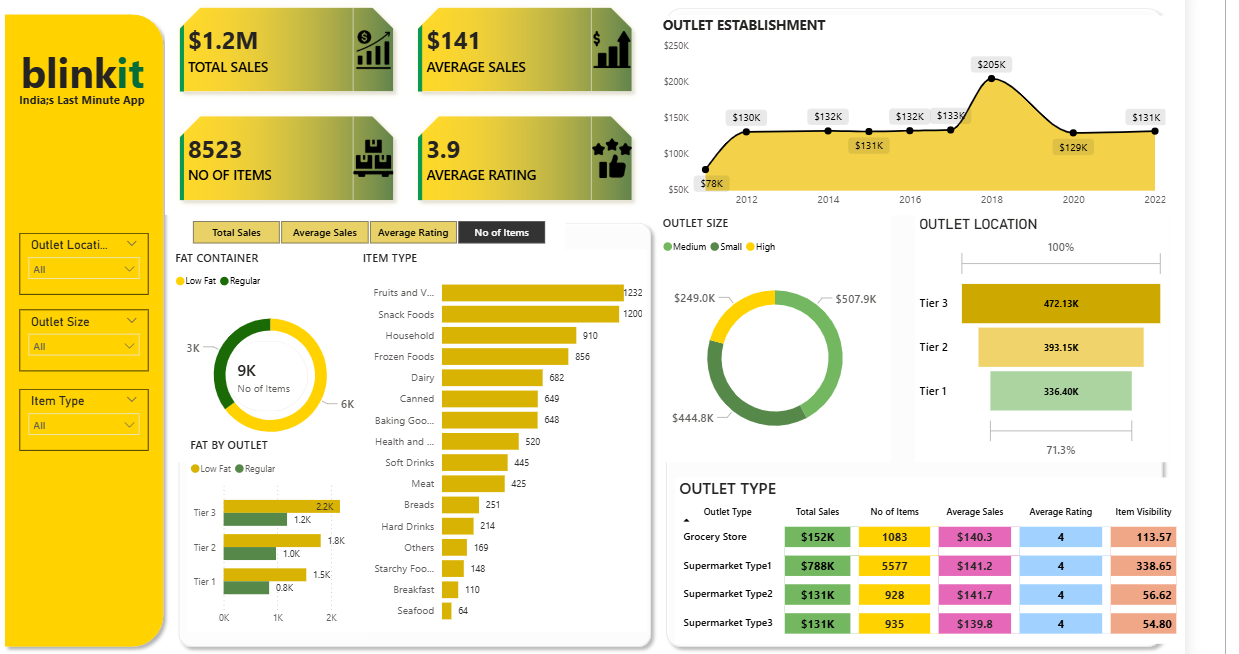

Layout of this report page (visuals, bound fields, positions):
{"tool":"powerbi","page":{"name":"Page 1","canvas":[1400,800],"ordinal":0},"visuals":[{"type":"shape","box":[0,23,205,763.5],"z":0},{"type":"textbox","box":[252.7,645.1,205,129],"z":1000},{"type":"textbox","box":[252.7,473.6,205,171.4],"z":2000},{"type":"textbox","box":[23,61.9,159.1,76],"z":3000},{"type":"textbox","box":[21.2,118.4,162.6,38.9],"z":4000},{"type":"cardVisual","fields":{"Data":["BlinkIT Grocery Data.Total Sales","BlinkIT Grocery Data.Average Sales","BlinkIT Grocery Data.No of Items","BlinkIT Grocery Data.Average Rating"]},"box":[197.9,7.1,567.3,261.6],"z":5000},{"type":"shape","box":[205,268.6,574.4,517.8],"z":6000},{"type":"donutChart","title":"FAT CONTAINER","fields":{"Y":["BlinkIT Grocery Data.Total Sales"],"Category":["BlinkIT Grocery Data.Item Fat Content"]},"box":[205,309.3,233.3,251],"z":7000},{"type":"slicer","fields":{"Values":["Parameter.Parameter"]},"box":[205,268.6,464.8,40.6],"z":8000},{"type":"cardVisual","fields":{"Data":["BlinkIT Grocery Data.Total Sales"]},"box":[265.1,411.8,106,93.7],"z":9000},{"type":"clusteredBarChart","title":"FAT BY OUTLET","fields":{"Y":["BlinkIT Grocery Data.Total Sales"],"Category":["BlinkIT Grocery Data.Outlet Location Type"],"Series":["BlinkIT Grocery Data.Item Fat Content"]},"box":[222.7,530.2,215.6,229.8],"z":10000},{"type":"barChart","title":"ITEM TYPE","fields":{"Y":["BlinkIT Grocery Data.Total Sales"],"Category":["BlinkIT Grocery Data.Item Type"]},"box":[425.9,309.3,339.3,450.7],"z":11000},{"type":"shape","box":[779.4,15.9,602.7,770.6],"z":12000},{"type":"lineChart","title":"OUTLET ESTABLISHMENT","fields":{"Y":["BlinkIT Grocery Data.Total Sales"],"Category":["BlinkIT Grocery Data.Outlet Establishment Year"]},"box":[779.4,33.6,602.7,235.1],"z":13000},{"type":"donutChart","title":"OUTLET SIZE","fields":{"Y":["BlinkIT Grocery Data.Total Sales"],"Category":["BlinkIT Grocery Data.Outlet Size"]},"box":[779.4,268.6,273.9,291.6],"z":14000},{"type":"funnel","title":"OUTLET LOCATION","fields":{"Y":["Sum(BlinkIT Grocery Data.Sales)"],"Category":["BlinkIT Grocery Data.Outlet Location Type"]},"box":[1081.6,268.6,298.7,291.6],"z":15000},{"type":"pivotTable","title":"OUTLET TYPE","fields":{"Rows":["BlinkIT Grocery Data.Outlet Type"],"Values":["BlinkIT Grocery Data.Total Sales","BlinkIT Grocery Data.No of Items","BlinkIT Grocery Data.Average Sales","BlinkIT Grocery Data.Average Rating","Sum(BlinkIT Grocery Data.Item Visibility)"]},"box":[798.8,577.9,600.9,196.2],"z":16000},{"type":"slicer","fields":{"Values":["BlinkIT Grocery Data.Outlet Location Type"]},"box":[26.5,289.8,152,72.5],"z":17000},{"type":"slicer","fields":{"Values":["BlinkIT Grocery Data.Outlet Size"]},"box":[26.5,380,152,72.5],"z":18000},{"type":"slicer","fields":{"Values":["BlinkIT Grocery Data.Item Type"]},"box":[26.5,473.6,152,72.5],"z":19000}]}

Visuals, with their boxes on the page's 1400x800 design canvas (x1, y1, x2, y2). These are canvas units, not pixel positions in the 1239x654 screenshot, which may show the page scaled, cropped or inside an application window:
shape: rect(0, 23, 205, 786)
textbox: rect(253, 645, 458, 774)
textbox: rect(253, 474, 458, 645)
textbox: rect(23, 62, 182, 138)
textbox: rect(21, 118, 184, 157)
cardVisual - BlinkIT Grocery Data.Total Sales x BlinkIT Grocery Data.Average Sales: rect(198, 7, 765, 269)
shape: rect(205, 269, 779, 786)
"FAT CONTAINER" donutChart: rect(205, 309, 438, 560)
slicer - Parameter.Parameter: rect(205, 269, 670, 309)
cardVisual - BlinkIT Grocery Data.Total Sales: rect(265, 412, 371, 506)
"FAT BY OUTLET" clusteredBarChart: rect(223, 530, 438, 760)
"ITEM TYPE" barChart: rect(426, 309, 765, 760)
shape: rect(779, 16, 1382, 786)
"OUTLET ESTABLISHMENT" lineChart: rect(779, 34, 1382, 269)
"OUTLET SIZE" donutChart: rect(779, 269, 1053, 560)
"OUTLET LOCATION" funnel: rect(1082, 269, 1380, 560)
"OUTLET TYPE" pivotTable: rect(799, 578, 1400, 774)
slicer - BlinkIT Grocery Data.Outlet Location Type: rect(26, 290, 178, 362)
slicer - BlinkIT Grocery Data.Outlet Size: rect(26, 380, 178, 452)
slicer - BlinkIT Grocery Data.Item Type: rect(26, 474, 178, 546)
